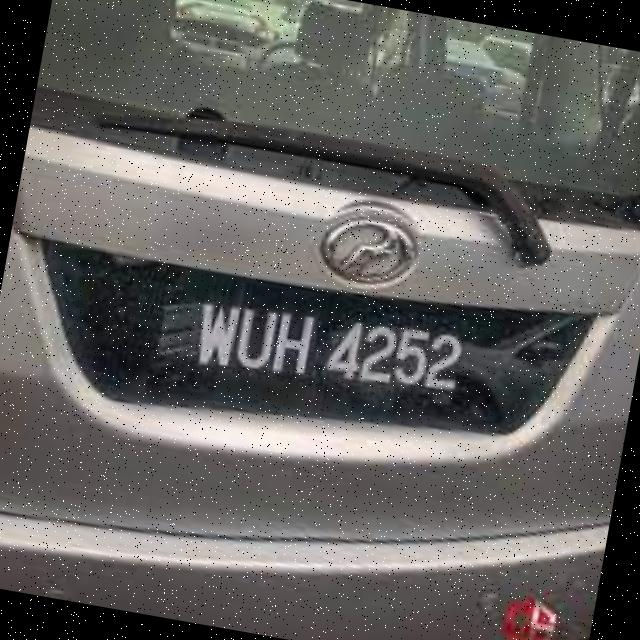License_Plate: (58, 223, 566, 501)
car: (1, 1, 640, 640)
